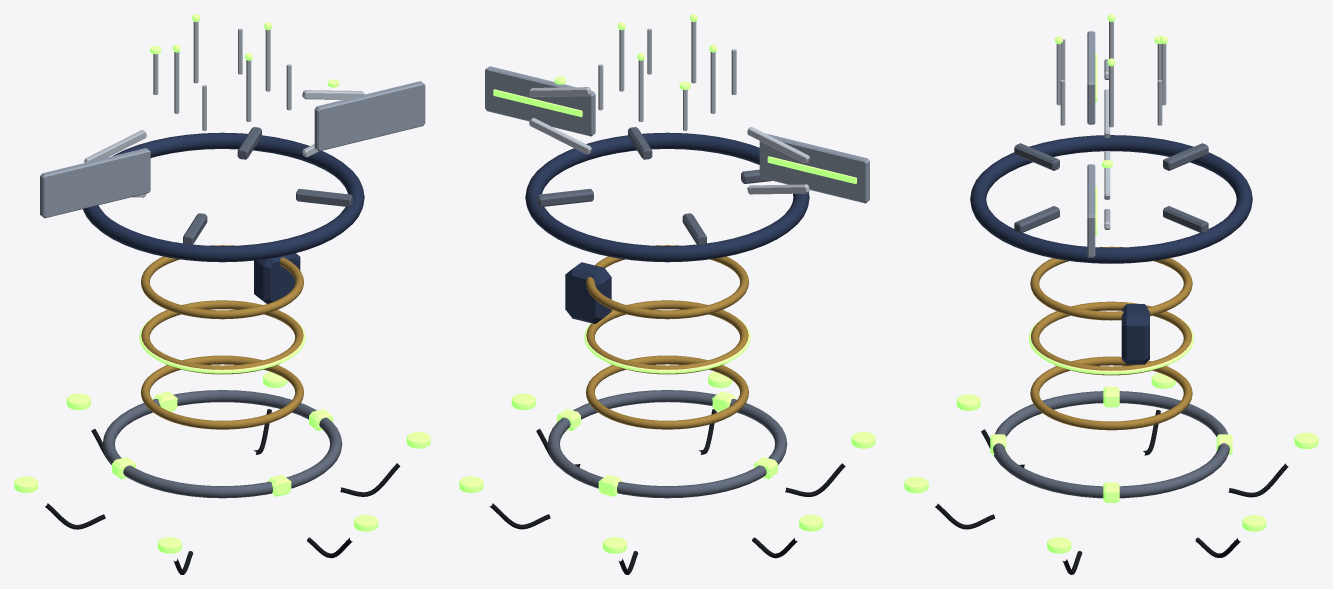
Rendered from tower_detector_field_s10.glb.
3 views of the same model, side by side, from view 1: azimuth 30°, elevation 25°; view 2: azimuth 150°, elevation 25°; view 3: azimuth 270°, elevation 25° (orthographic).
Parts seen in each view (by area): view 1: detector_pulse_ring, detector_base_ring, detector_wing_l, detector_wing_r, detector_field_coil0.7, detector_field_coil1, detector_field_coil1.3, detector_relay, detector_field_coil_glow, detector_pulse_strut2, detector_wing_strut_r, detector_wing_strut_l; view 2: detector_pulse_ring, detector_base_ring, detector_wing_r, detector_wing_l, detector_field_coil0.7, detector_field_coil1, detector_field_coil1.3, detector_relay, detector_field_coil_glow, detector_pulse_strut1, detector_wing_glow_l, detector_wing_glow_r (+4 smaller); view 3: detector_pulse_ring, detector_base_ring, detector_field_coil0.7, detector_field_coil1, detector_field_coil1.3, detector_relay, detector_field_coil_glow, detector_wing_l, detector_wing_r, detector_pulse_strut0, detector_pulse_strut3, detector_pulse_strut1 (+1 smaller).
Part boxes in pixels (bbox=[...]): detector_pulse_ring: bbox=[83, 132, 364, 262]; detector_base_ring: bbox=[102, 390, 342, 498]; detector_wing_l: bbox=[314, 81, 425, 151]; detector_wing_r: bbox=[40, 148, 150, 218]; detector_field_coil0.7: bbox=[141, 355, 303, 429]; detector_field_coil1: bbox=[141, 300, 303, 374]; detector_field_coil1.3: bbox=[141, 245, 303, 319]; detector_relay: bbox=[254, 253, 300, 303]; detector_field_coil_glow: bbox=[139, 314, 305, 373]; detector_pulse_strut2: bbox=[296, 188, 352, 206]; detector_wing_strut_r: bbox=[84, 130, 146, 162]; detector_wing_strut_l: bbox=[302, 90, 364, 99]; detector_pulse_ring: bbox=[525, 132, 809, 262]; detector_base_ring: bbox=[547, 390, 787, 498]; detector_wing_r: bbox=[759, 133, 869, 203]; detector_wing_l: bbox=[485, 66, 595, 136]; detector_field_coil0.7: bbox=[586, 355, 748, 429]; detector_field_coil1: bbox=[586, 300, 748, 374]; detector_field_coil1.3: bbox=[586, 245, 748, 319]; detector_relay: bbox=[565, 262, 611, 323]; detector_field_coil_glow: bbox=[584, 314, 750, 373]; detector_pulse_strut1: bbox=[537, 188, 593, 206]; detector_wing_glow_l: bbox=[493, 89, 582, 117]; detector_wing_glow_r: bbox=[767, 156, 856, 183]; detector_pulse_ring: bbox=[970, 135, 1252, 263]; detector_base_ring: bbox=[993, 391, 1229, 498]; detector_field_coil0.7: bbox=[1030, 356, 1192, 430]; detector_field_coil1: bbox=[1031, 301, 1191, 375]; detector_field_coil1.3: bbox=[1030, 246, 1192, 320]; detector_relay: bbox=[1121, 304, 1149, 364]; detector_field_coil_glow: bbox=[1028, 316, 1194, 374]; detector_wing_l: bbox=[1087, 164, 1095, 257]; detector_wing_r: bbox=[1087, 31, 1095, 124]; detector_pulse_strut0: bbox=[1163, 143, 1208, 170]; detector_pulse_strut3: bbox=[1014, 143, 1059, 170]; detector_pulse_strut1: bbox=[1163, 206, 1208, 232].
Size of what is drawn, in the model's own units: 2.17 by 2.6 by 2.05.
